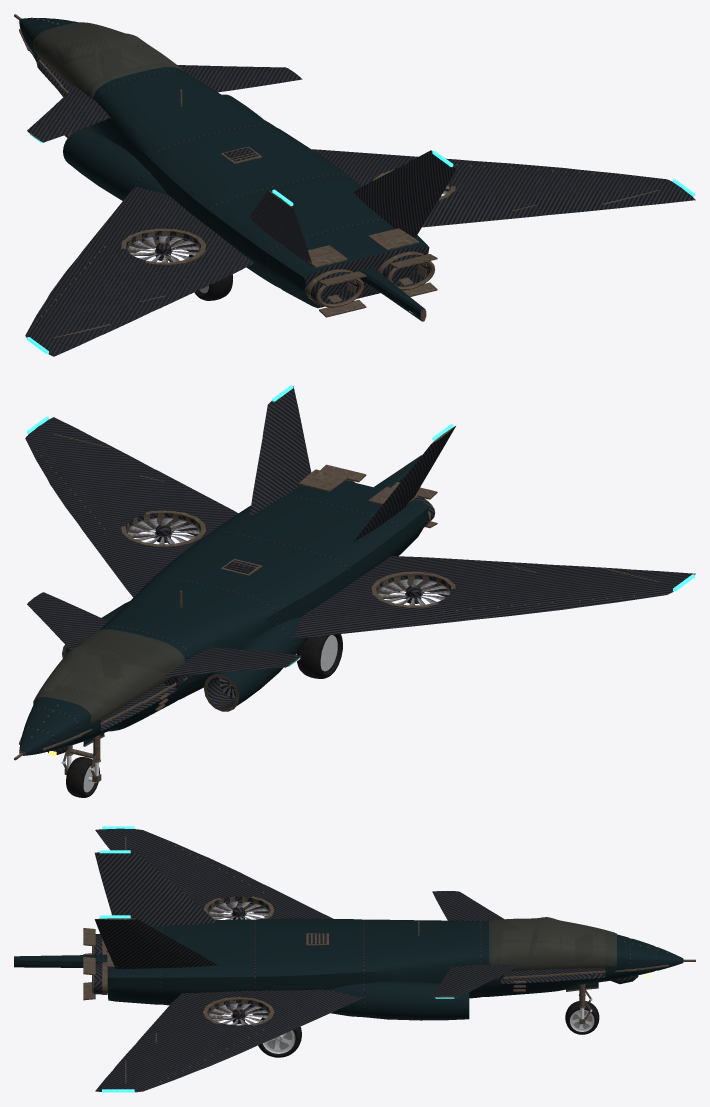
3 renders of one model, top to bottom at view 1: azimuth 30°, elevation 25°; view 2: azimuth 150°, elevation 25°; view 3: azimuth 270°, elevation 25°, orthographic. The views are drawn at different scales.
Parts seen in each view (by area): view 1: kb2_core, kb2_wing_l, kb2_wing_r, kb2_canard_l, kb2_canard_r, kb2_gear_down; view 2: kb2_core, kb2_wing_l, kb2_wing_r, kb2_gear_down, kb2_canard_l, kb2_canard_r; view 3: kb2_core, kb2_wing_r, kb2_wing_l, kb2_gear_down, kb2_canard_r, kb2_canard_l.
Boxes of the visible parts, x1=… form: kb2_core: x1=14, y1=14, x2=456, y2=321; kb2_wing_l: x1=25, y1=186, x2=252, y2=356; kb2_wing_r: x1=312, y1=149, x2=695, y2=227; kb2_canard_l: x1=27, y1=86, x2=110, y2=142; kb2_canard_r: x1=177, y1=65, x2=302, y2=92; kb2_gear_down: x1=64, y1=126, x2=232, y2=300; kb2_core: x1=14, y1=385, x2=455, y2=760; kb2_wing_l: x1=292, y1=556, x2=695, y2=638; kb2_wing_r: x1=25, y1=416, x2=238, y2=597; kb2_gear_down: x1=61, y1=634, x2=342, y2=797; kb2_canard_l: x1=164, y1=647, x2=301, y2=676; kb2_canard_r: x1=27, y1=592, x2=108, y2=649; kb2_core: x1=14, y1=850, x2=695, y2=1020; kb2_wing_r: x1=95, y1=990, x2=363, y2=1092; kb2_wing_l: x1=95, y1=826, x2=333, y2=920; kb2_gear_down: x1=253, y1=982, x2=599, y2=1057; kb2_canard_r: x1=432, y1=964, x2=520, y2=998; kb2_canard_l: x1=432, y1=891, x2=504, y2=921.
Size of the model in its own units: 8.03 by 2.12 by 8.76.
15 materials, 8 textured.
